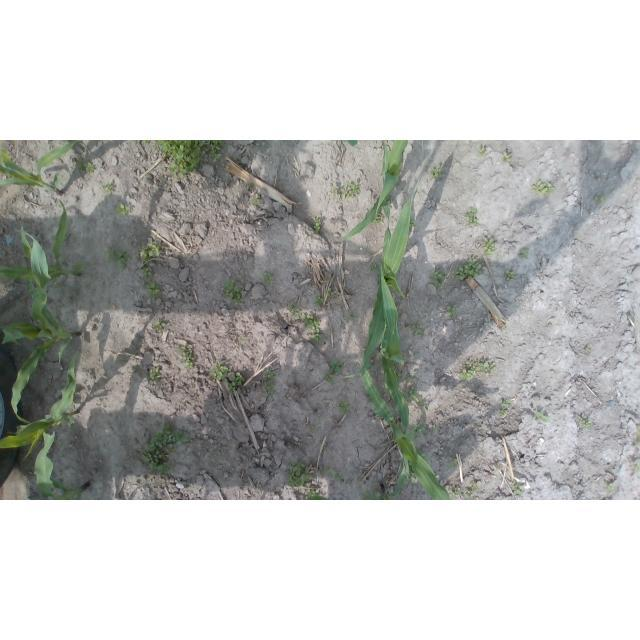Maize: (339, 176, 422, 380), (0, 279, 84, 423), (0, 199, 86, 318), (0, 344, 80, 461), (359, 336, 430, 460), (339, 141, 408, 242), (1, 141, 79, 196)
Weeds: (135, 422, 191, 476), (155, 141, 222, 179), (135, 243, 163, 302), (457, 358, 497, 382), (286, 461, 313, 490), (450, 257, 482, 279), (405, 385, 432, 411), (300, 313, 325, 341), (105, 244, 131, 270), (223, 277, 248, 304), (330, 179, 362, 199), (448, 479, 480, 497), (322, 466, 349, 487), (176, 344, 196, 369), (260, 368, 278, 395), (325, 358, 343, 385), (74, 152, 96, 173), (426, 268, 446, 291), (210, 360, 229, 382), (362, 489, 399, 500), (530, 178, 553, 194), (228, 372, 244, 394), (336, 398, 353, 418), (417, 420, 438, 436), (580, 414, 597, 433), (510, 481, 530, 496), (497, 397, 511, 418), (410, 320, 426, 338), (463, 206, 477, 226), (483, 236, 496, 257), (304, 489, 329, 499), (534, 411, 550, 424), (431, 164, 444, 180), (289, 302, 300, 319), (151, 320, 165, 333), (445, 304, 458, 318), (262, 271, 275, 285), (148, 366, 160, 381), (370, 261, 381, 277), (117, 204, 130, 217), (504, 270, 517, 283), (371, 212, 385, 224), (102, 182, 114, 195), (313, 216, 324, 230), (634, 424, 640, 449), (631, 460, 640, 476), (408, 471, 419, 484), (315, 296, 326, 309), (502, 151, 513, 164), (517, 248, 530, 259), (606, 481, 617, 492), (448, 455, 459, 466), (347, 313, 358, 324), (251, 195, 262, 206), (416, 450, 429, 459), (309, 423, 318, 433), (328, 288, 337, 297), (478, 145, 485, 156), (141, 140, 152, 146), (238, 336, 246, 344), (596, 194, 604, 201), (317, 413, 324, 420), (594, 173, 599, 180)
